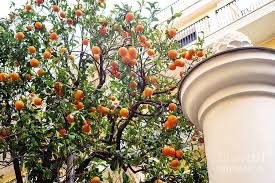orange: (127, 46, 139, 56), (118, 47, 128, 57), (91, 46, 100, 54)
